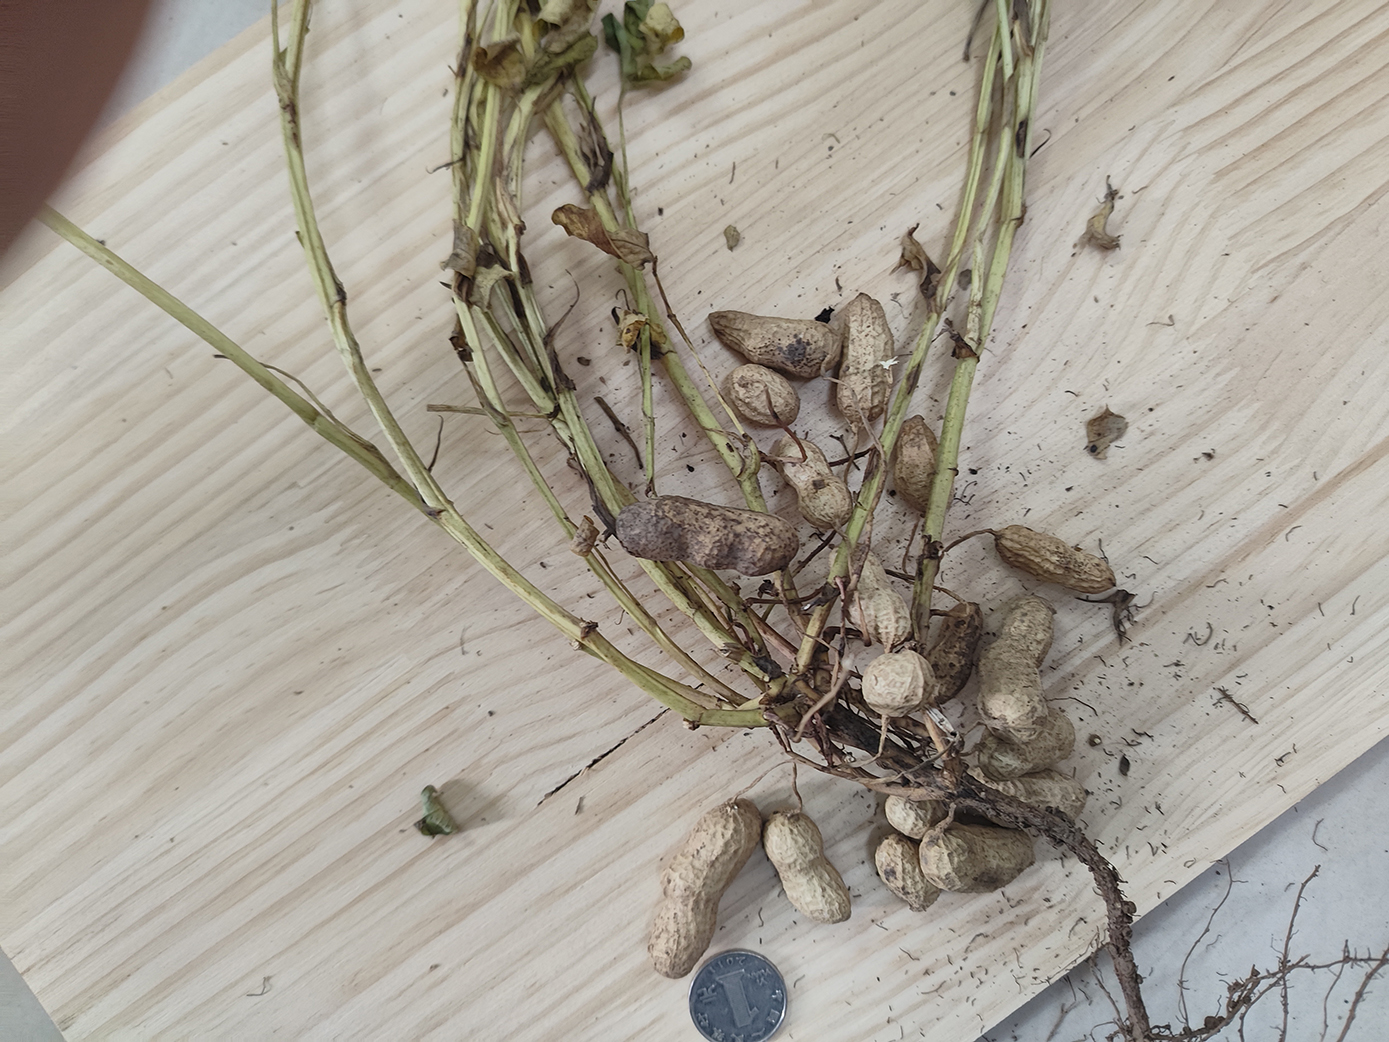h: (649, 800, 762, 979), (977, 597, 1054, 743), (762, 810, 852, 923), (709, 310, 841, 382), (829, 543, 917, 645), (995, 526, 1116, 593), (924, 830, 1038, 894), (773, 436, 852, 528), (836, 294, 892, 420), (966, 769, 1085, 827), (979, 715, 1080, 782), (893, 415, 950, 518), (926, 602, 979, 706), (863, 651, 933, 721), (727, 364, 800, 428), (876, 838, 937, 910), (884, 784, 957, 836)
l: (616, 497, 798, 579)
